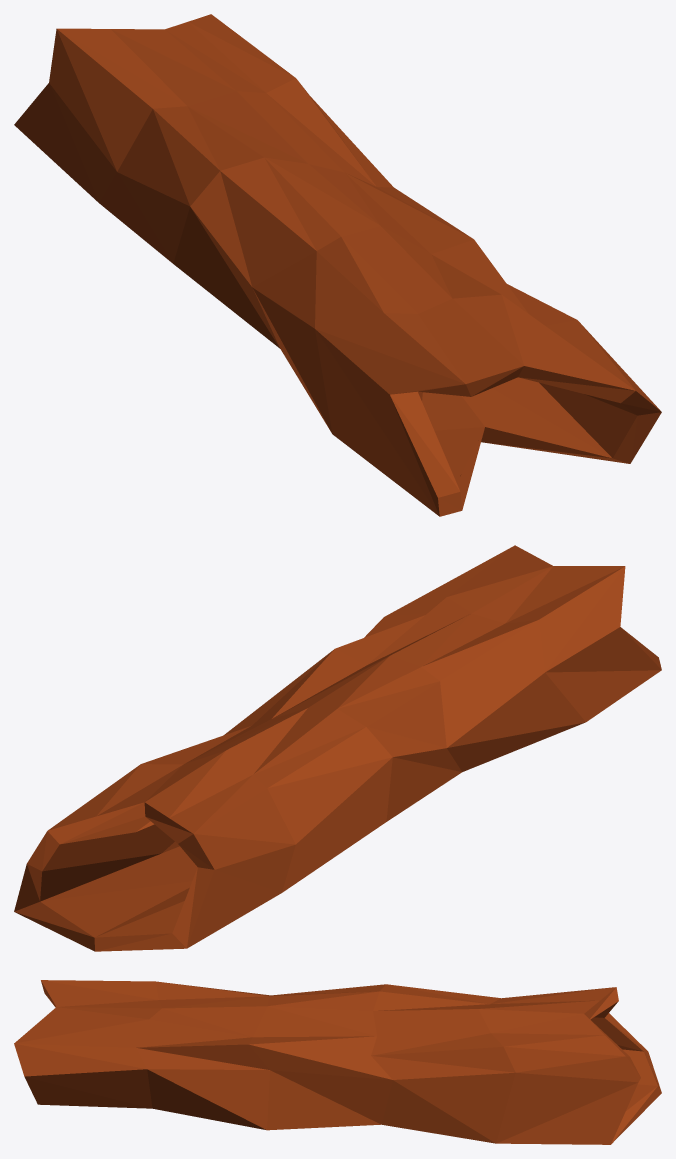
Rendered from Bench2.fbx.
3 views of the same model, one above another, from view 1: azimuth 30°, elevation 25°; view 2: azimuth 150°, elevation 25°; view 3: azimuth 270°, elevation 25° (orthographic). The views are drawn at different scales.
Parts seen in each view (by area): view 1: Bench; view 2: Bench; view 3: Bench.
Part boxes in pixels (x1,y1,x2,y2): Bench: [14, 14, 661, 516]; Bench: [14, 545, 661, 951]; Bench: [14, 980, 661, 1144].
Size of the model in its own units: 118 by 57.84 by 345.
